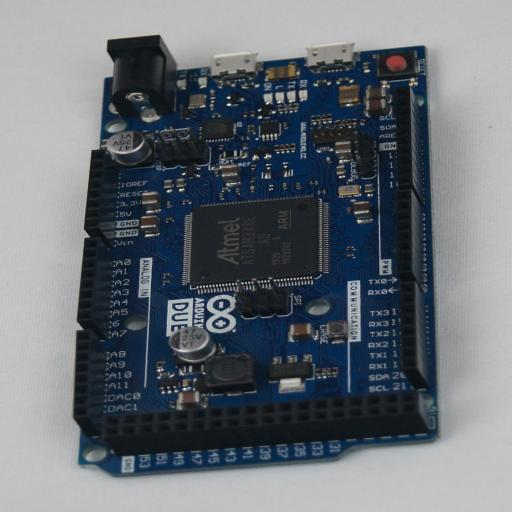Arduino Due: (73, 36, 439, 476)
